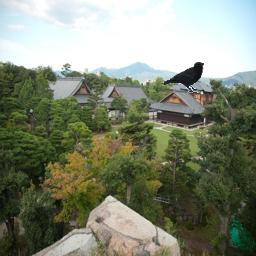Crow: (161, 62, 204, 93)
